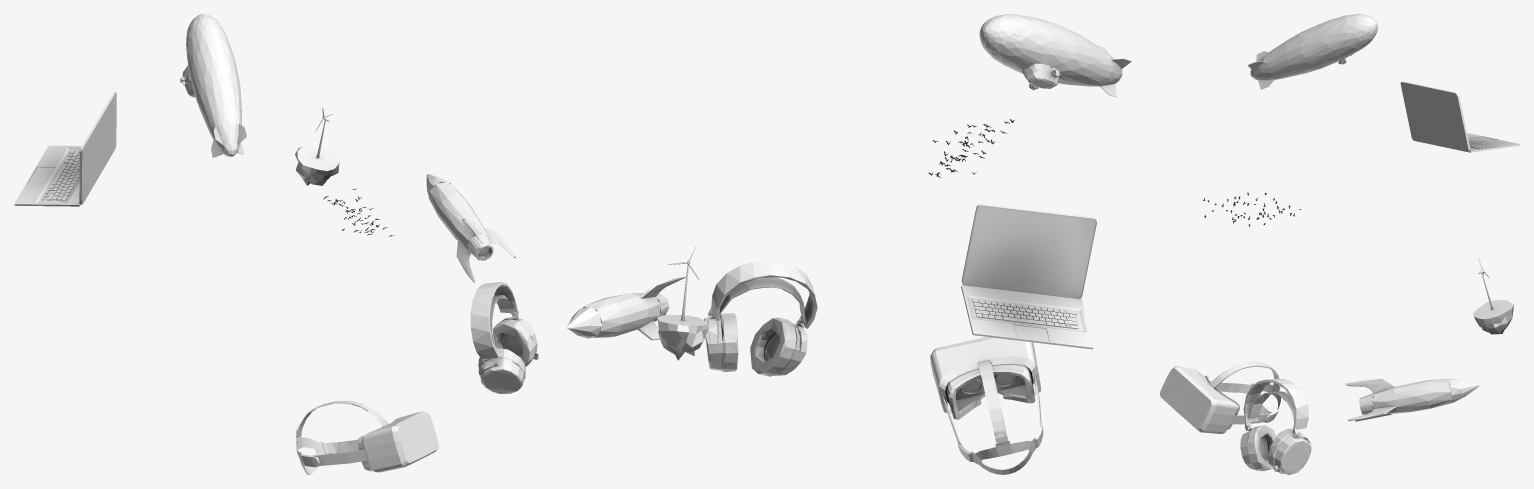
3 views of the same model, side by side, from view 1: azimuth 30°, elevation 25°; view 2: azimuth 150°, elevation 25°; view 3: azimuth 270°, elevation 25° (orthographic). The views are drawn at different scales.
Parts seen in each view (by area): view 1: Zeppelin, VR Headset, Headphones, Notebook, Rocket.003, Roundcube.001; view 2: Notebook, VR Headset, Headphones, Zeppelin, Rocket.003, Roundcube.001; view 3: Zeppelin, VR Headset, Headphones, Notebook, Rocket.003, Roundcube.001.
Boxes of the visible parts, x1,y1,x2,y2 form: Zeppelin: [180, 14, 246, 157]; VR Headset: [295, 400, 438, 474]; Headphones: [470, 282, 538, 393]; Notebook: [14, 92, 116, 206]; Rocket.003: [426, 174, 516, 282]; Roundcube.001: [295, 108, 339, 185]; Notebook: [961, 204, 1096, 349]; VR Headset: [930, 337, 1043, 474]; Headphones: [704, 260, 817, 376]; Zeppelin: [979, 14, 1131, 97]; Rocket.003: [567, 275, 685, 340]; Roundcube.001: [657, 247, 708, 360]; Zeppelin: [1247, 14, 1377, 89]; VR Headset: [1160, 361, 1281, 433]; Headphones: [1240, 378, 1311, 474]; Notebook: [1400, 81, 1519, 152]; Rocket.003: [1345, 378, 1479, 421]; Roundcube.001: [1473, 258, 1513, 334].
Bounding box in the file's own units: 86.32 × 80.6 × 69.16.
7 materials, 7 textured.
